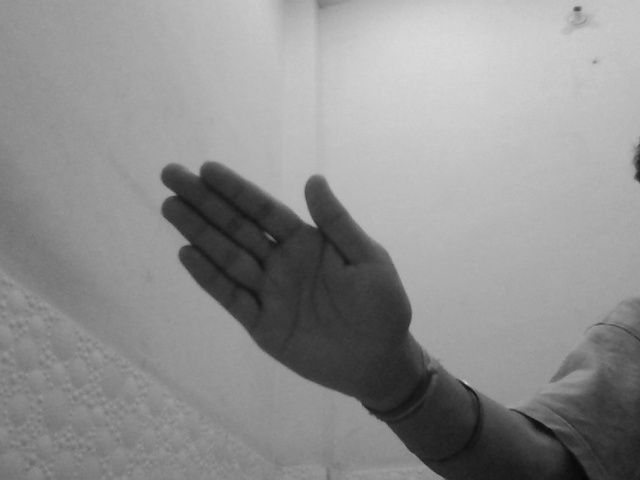Hello: (158, 158, 415, 383)
